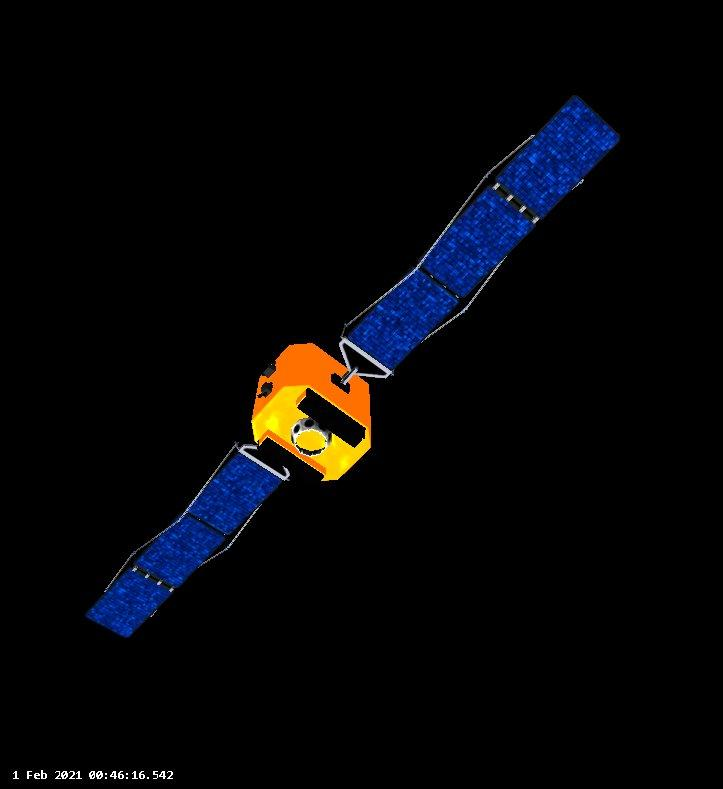body: (251, 342, 373, 482)
solar: (343, 95, 619, 377), (86, 438, 292, 640)
thruster: (292, 416, 332, 458), (271, 360, 277, 369), (257, 392, 263, 399), (265, 385, 273, 389), (263, 391, 268, 397), (262, 373, 267, 377)
